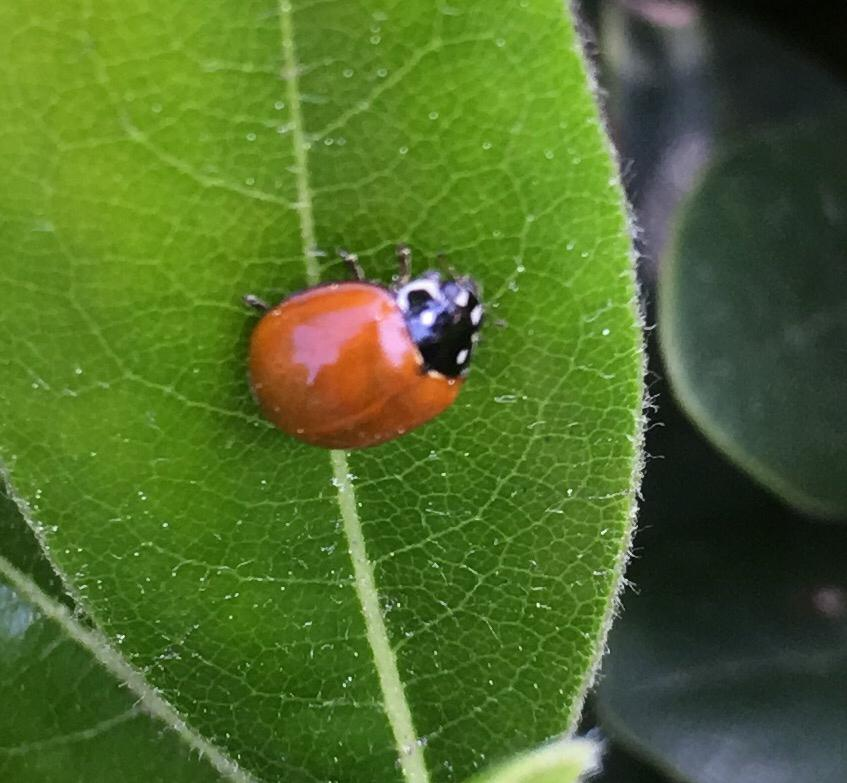ladybug: (243, 239, 495, 453)
